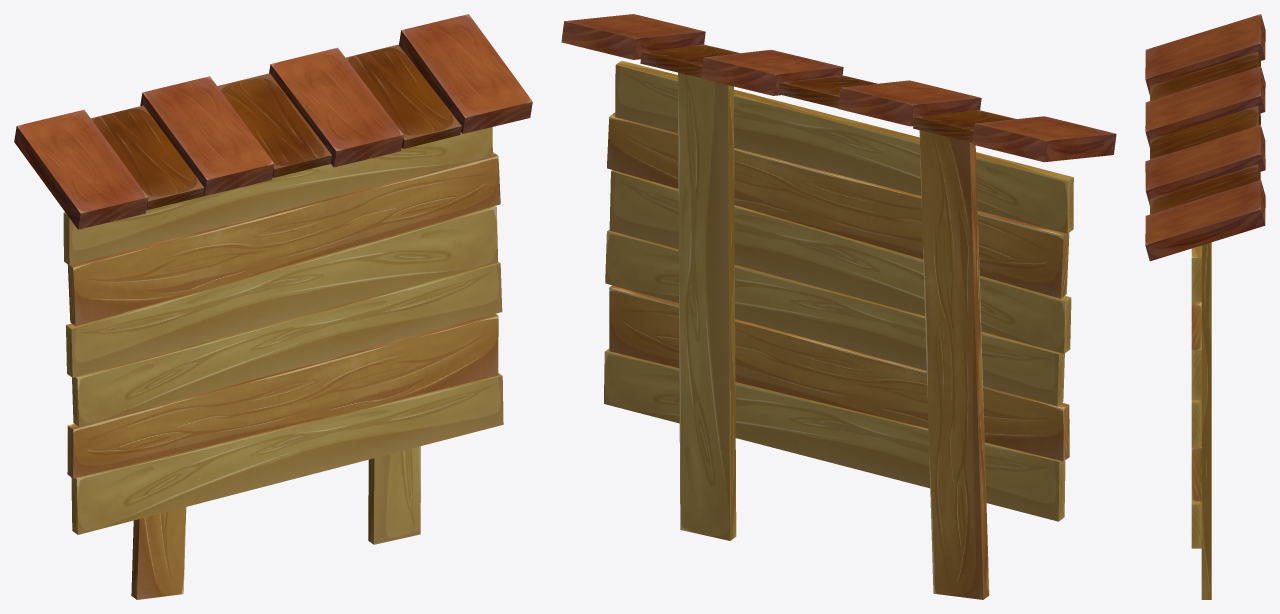
File: board2.fbx
3 renders of one model, left to right at view 1: azimuth 30°, elevation 25°; view 2: azimuth 150°, elevation 25°; view 3: azimuth 270°, elevation 25°, orthographic. The views are drawn at different scales.
Visible parts, largest first — view 1: board; view 2: board; view 3: board.
Boxes of the visible parts, x1,y1,x2,y2 form: board: (14, 14, 532, 599); board: (561, 14, 1116, 599); board: (1145, 14, 1265, 599).
Bounding box in the file's own units: 1935 × 1958 × 498.
1 material, 1 textured.
